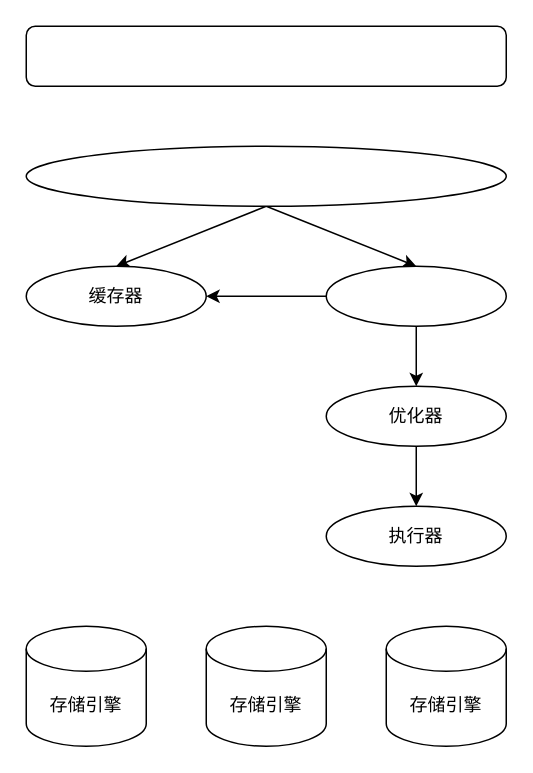
Some shapes in this 533 by 773 pixel diagram are drawn without their labels. The shapes that lost their labels are listed below. From the top down, each one's centre as x and y in pixels, then its label:
At point (265, 55): "client".
At point (265, 175): "连接器".
At point (415, 295): "分析器".
